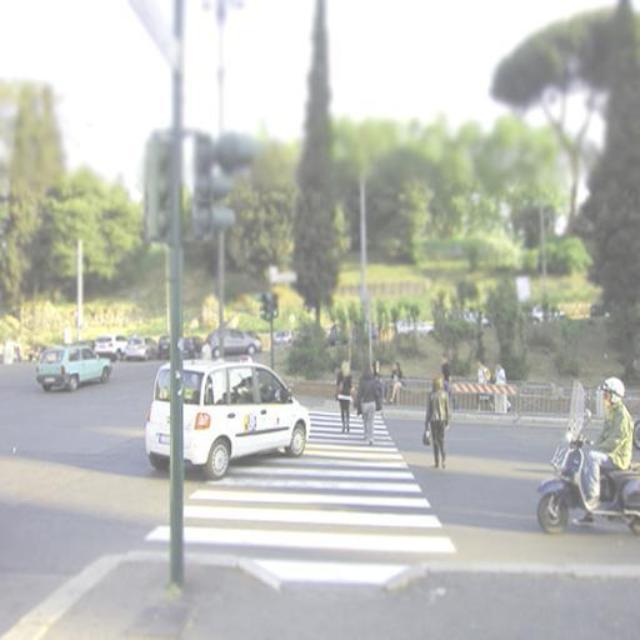sidewalk: (143, 410, 455, 552)
